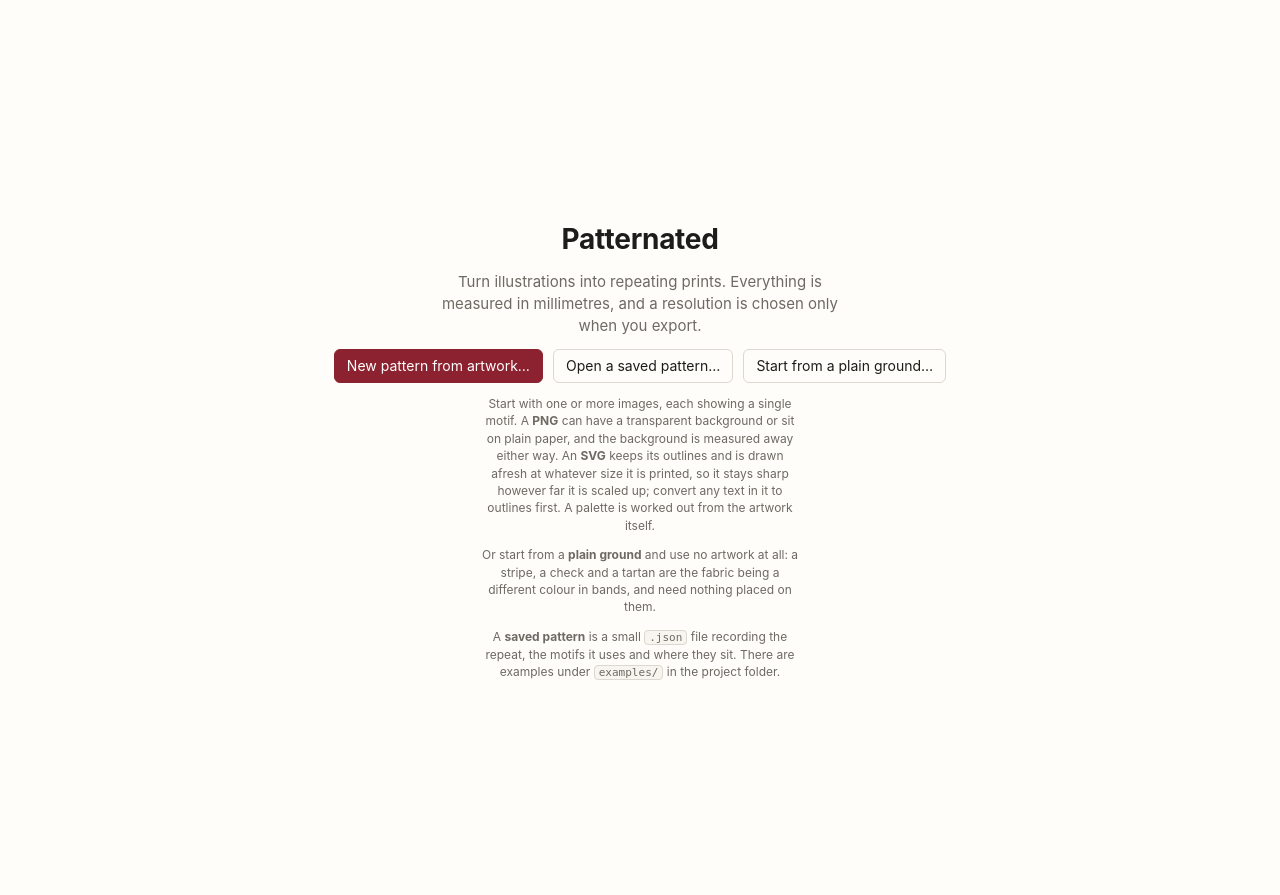
Test: cutting for a garment › scales the repeat and the motifs together
Click the button "Open a saved pattern…" at (643, 366), box [553,349,733,383]
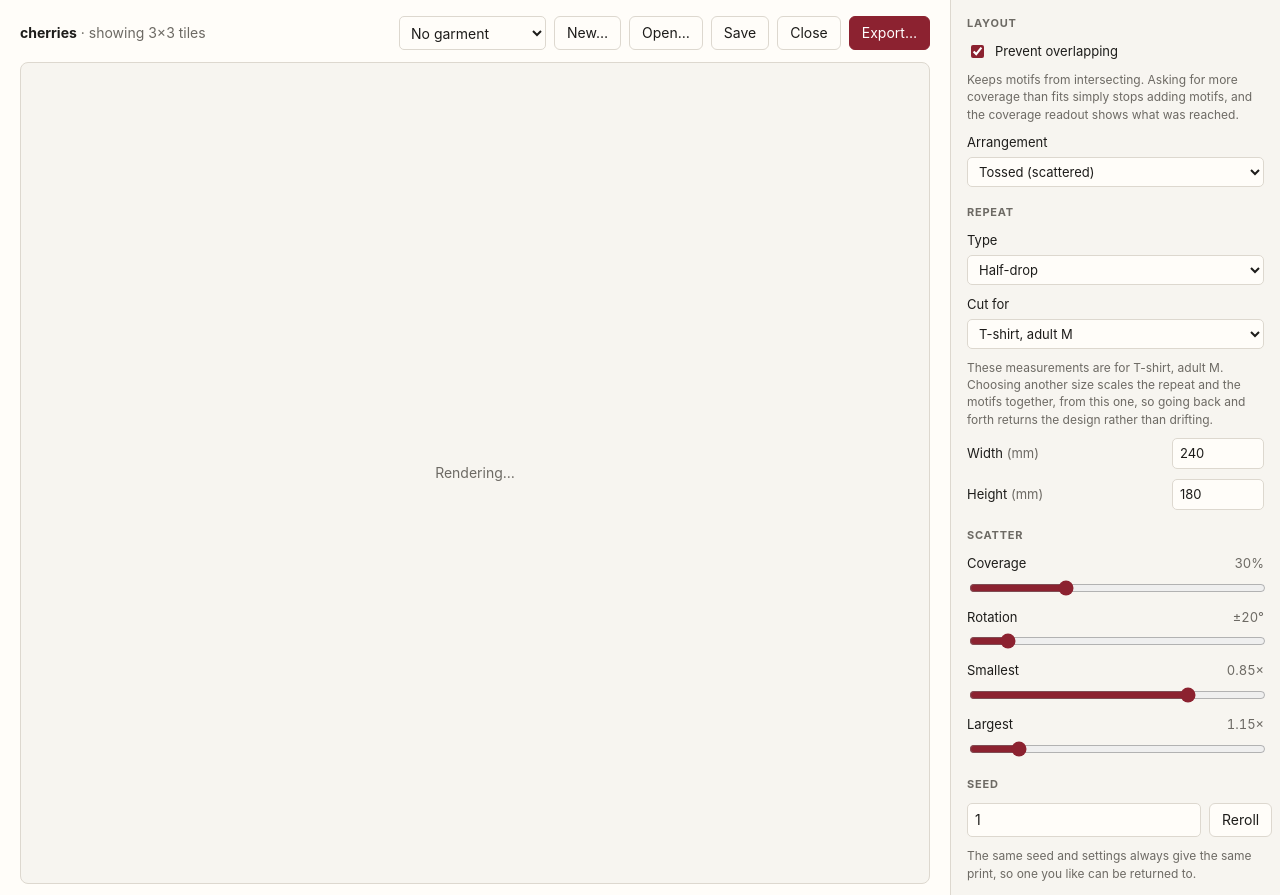
Result: the button with test id "close" is shown at [777,16,841,50]
Select "T-shirt, age 3–4" in the dropdown with test id "cut-for" at (1116, 334), box [967,319,1264,349]
(page scrolled)
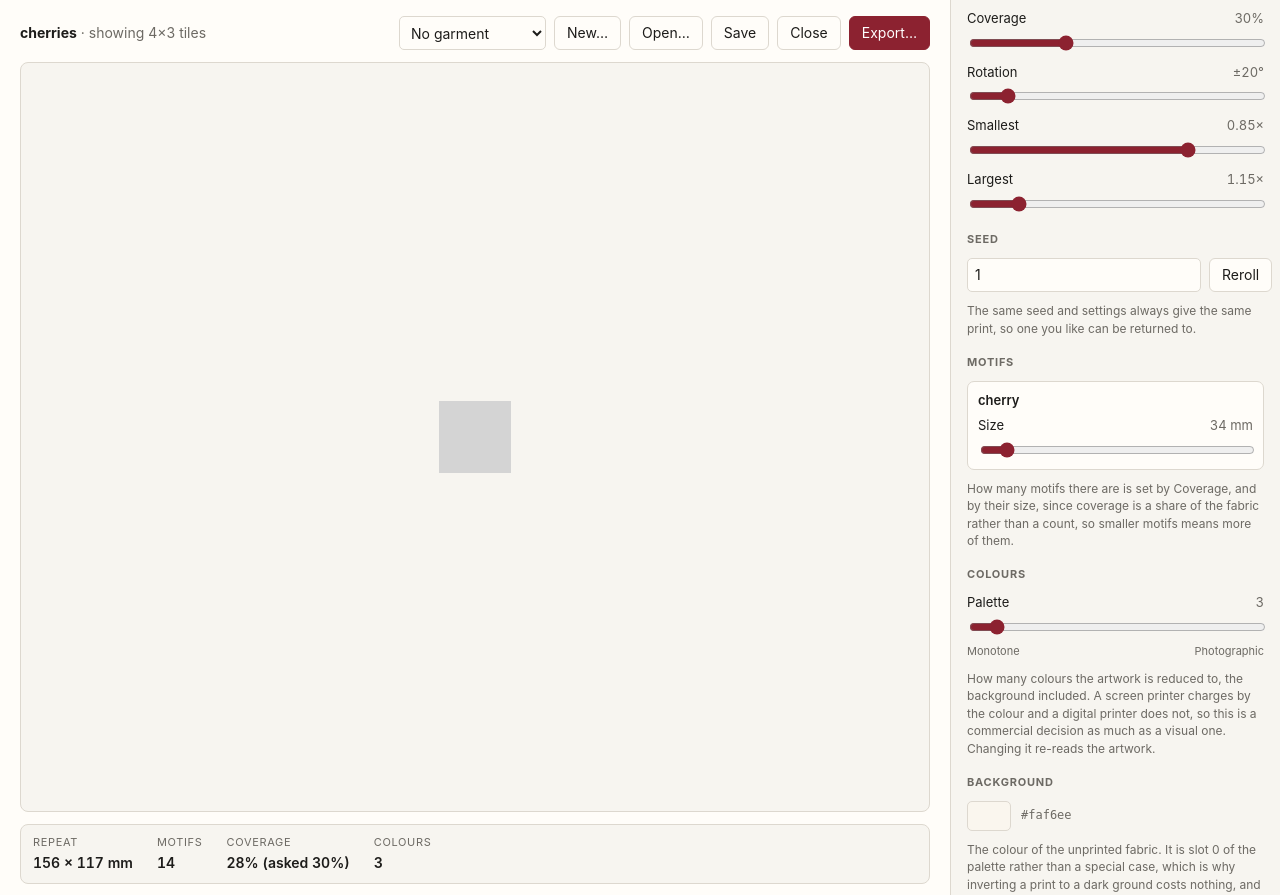
Result: the slider with test id "size-cherry" holds "34" at [980,442,1255,458]
